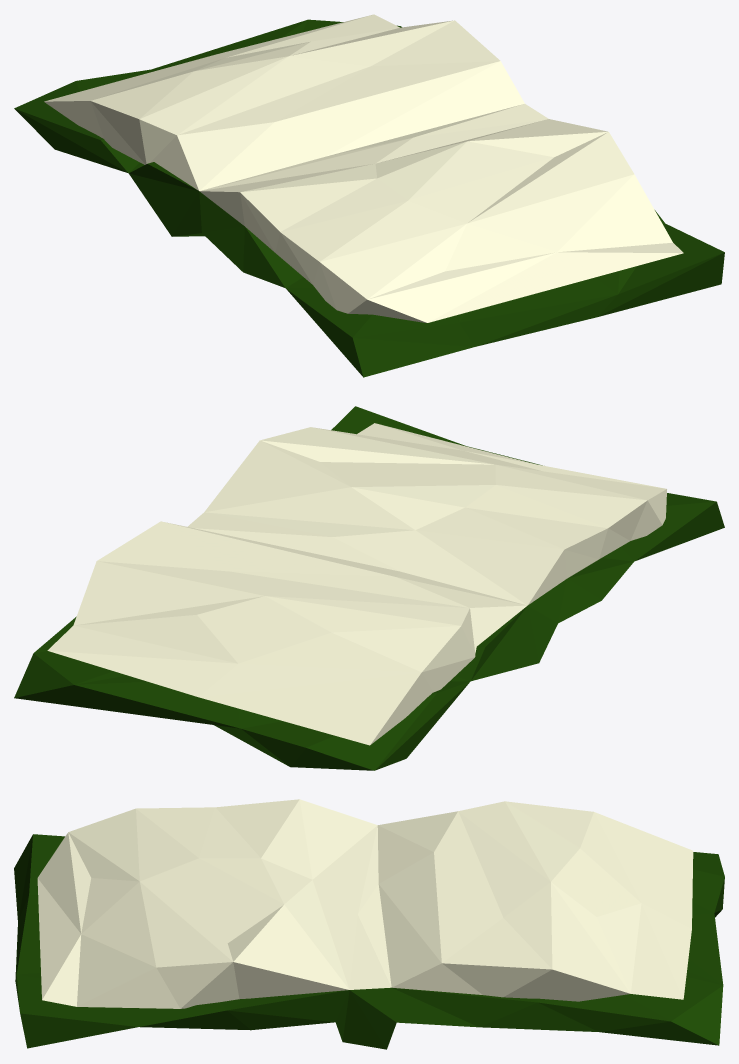
The model's file is stm_env_BookOpen.fbx.
The picture shows the model from 3 angles, top to bottom: view 1: azimuth 30°, elevation 25°; view 2: azimuth 150°, elevation 25°; view 3: azimuth 270°, elevation 25°; orthographic projection.
Parts seen in each view (by area): view 1: Cube; view 2: Cube; view 3: Cube.
Part boxes in pixels (box(x1,y1,x2,y2)): Cube: box(14, 14, 724, 377); Cube: box(14, 406, 724, 770); Cube: box(14, 799, 724, 1049).
Bounding box in the file's own units: 206 × 45.03 × 338.
